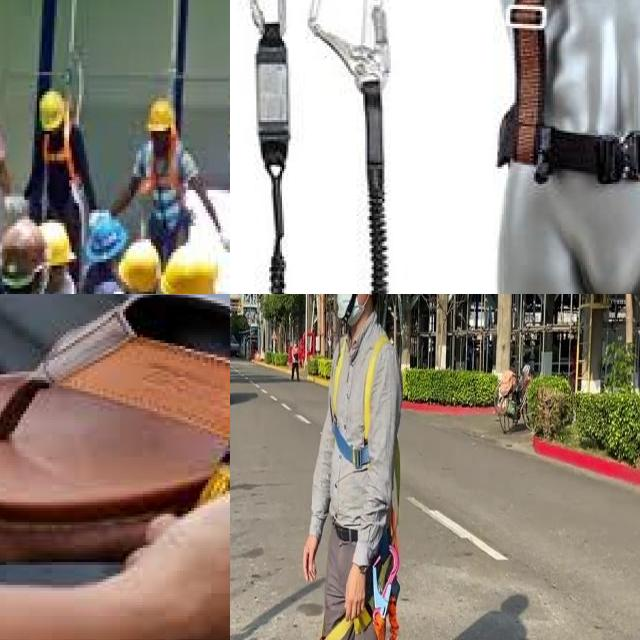Harness: (488, 0, 640, 294), (321, 515, 401, 640), (332, 335, 389, 470), (35, 129, 93, 260), (134, 142, 196, 253)
Sandals: (0, 294, 230, 570)
